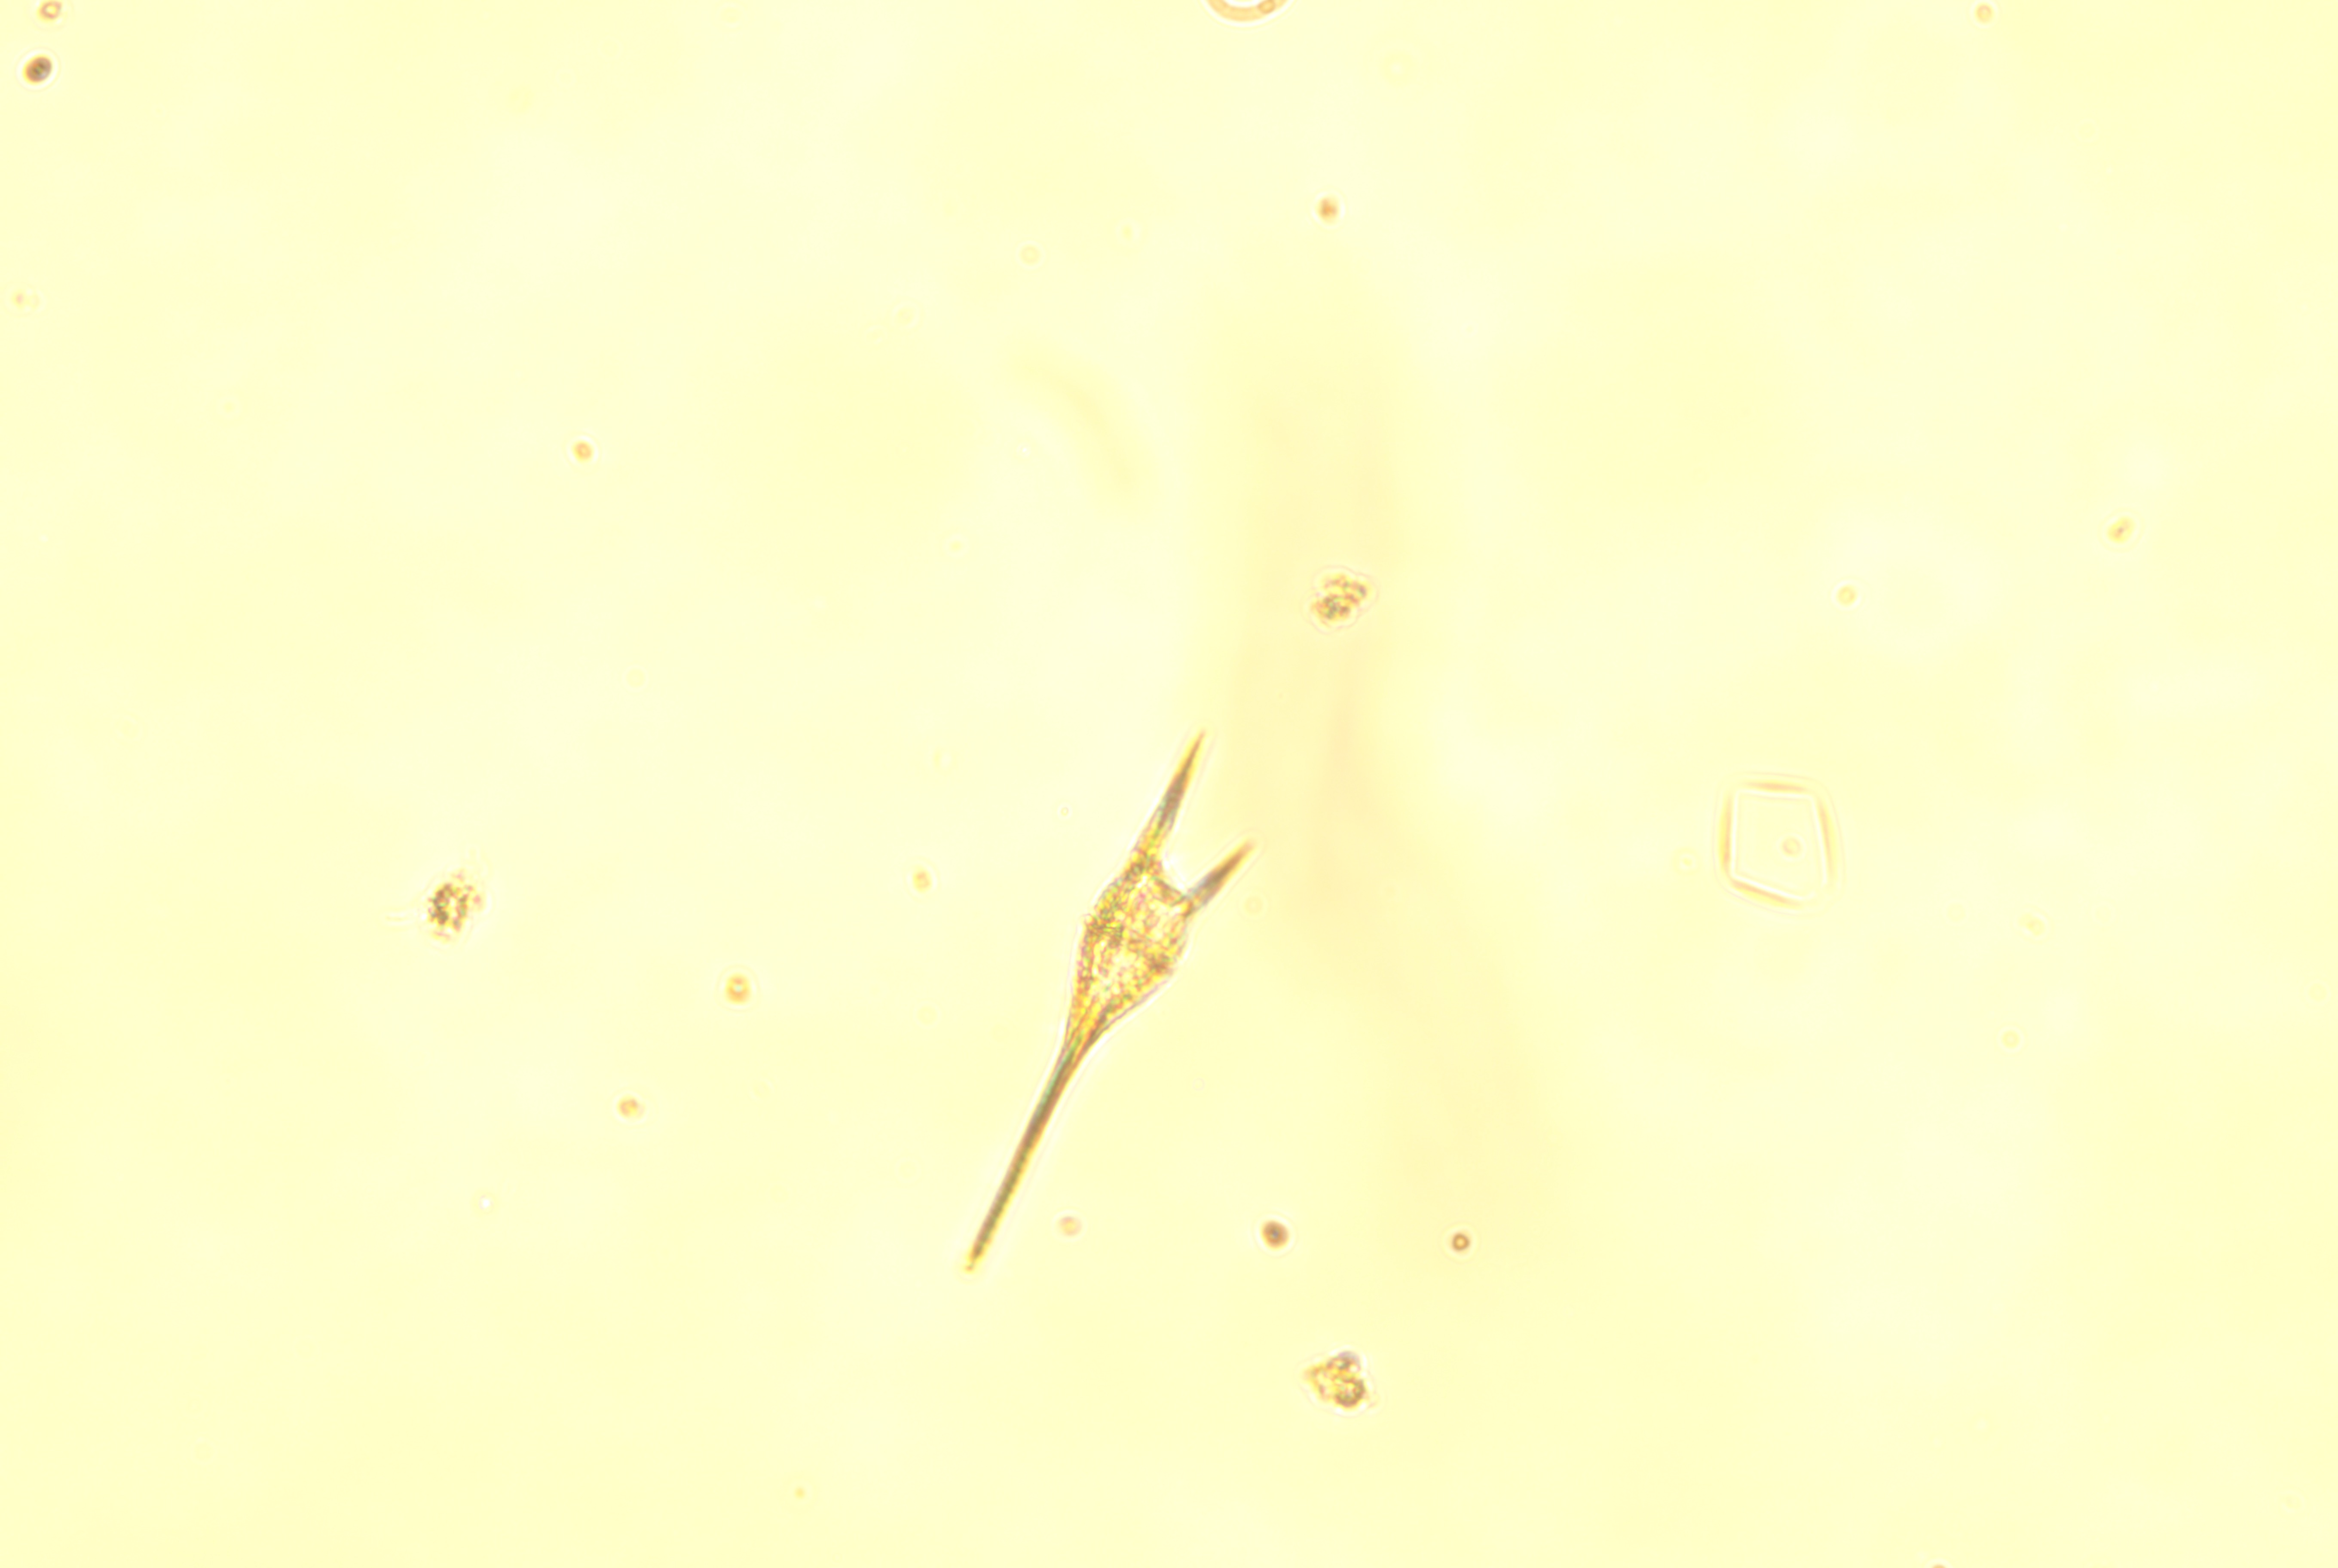ceratium furca: (928, 710, 1251, 1288)
